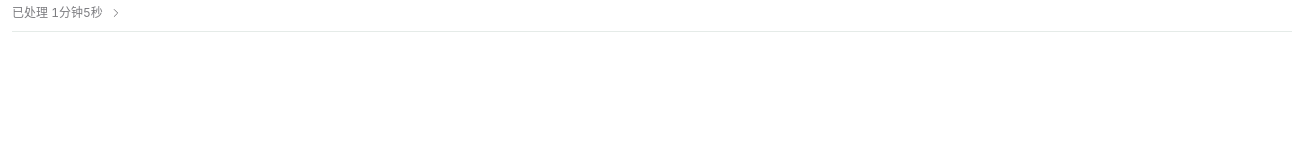
Test: Codex-style activity trace › history without progress notes opens as one round
The width and height of the screenshot is (1292, 160).
Expected: the text "已运行命令、读取文件" is not shown
Click the heading "已处理 1分钟5秒" at (67, 12), box 12,5 -> 123,20
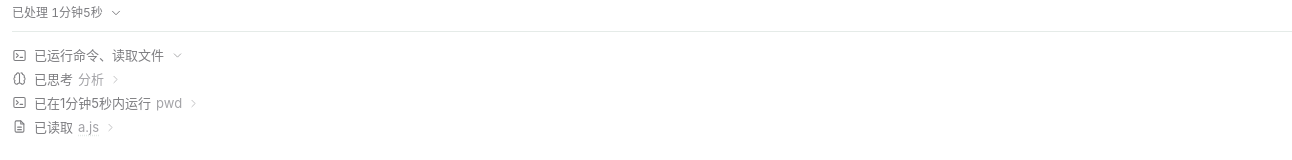
Now the text "已运行命令、读取文件" is shown, box 34,44 -> 164,66
Now the text "pwd" is shown, box 156,92 -> 182,114
